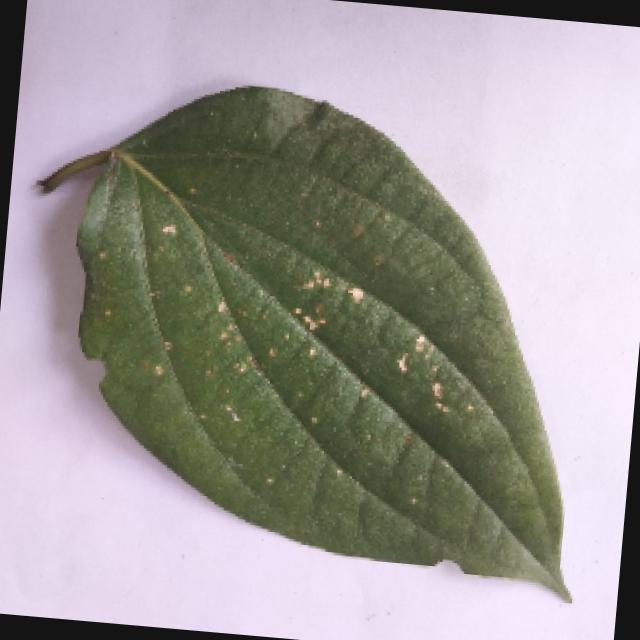pollu-disease: (0, 62, 609, 595)
